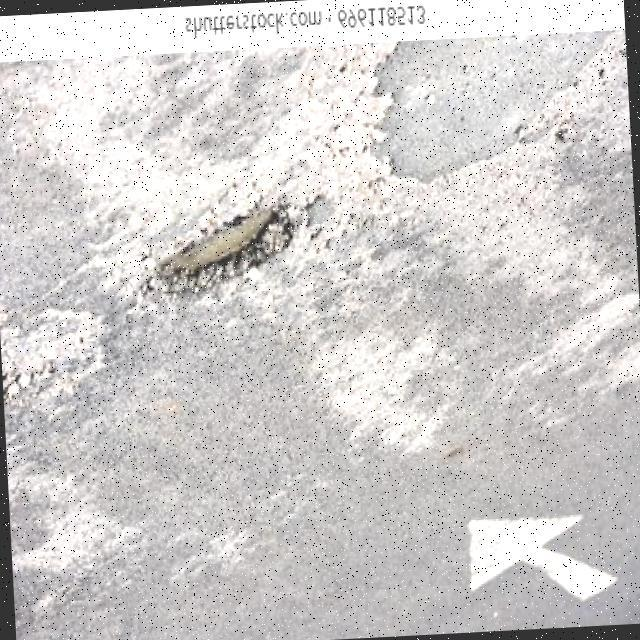Pothole: (147, 198, 295, 292)
